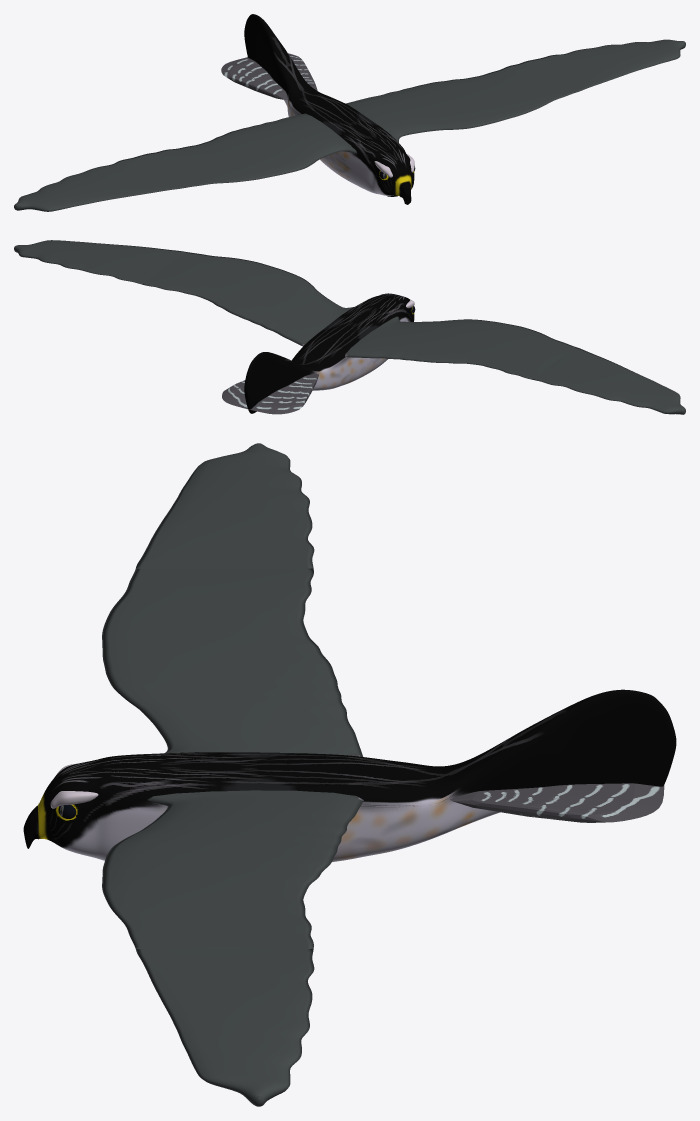
File: falcon8.gltf
The picture shows the model from 3 angles, top to bottom: view 1: azimuth 30°, elevation 25°; view 2: azimuth 150°, elevation 25°; view 3: azimuth 270°, elevation 25°; orthographic projection. The views are drawn at different scales.
Visible parts, largest first — view 1: corps; view 2: corps; view 3: corps.
Boxes of the visible parts, x1=… form: corps: x1=14, y1=14, x2=685, y2=211; corps: x1=14, y1=240, x2=685, y2=414; corps: x1=23, y1=443, x2=676, y2=1106.
Size of the model in its own units: 4.85 by 0.5692 by 2.04.
6 materials, 6 textured.
